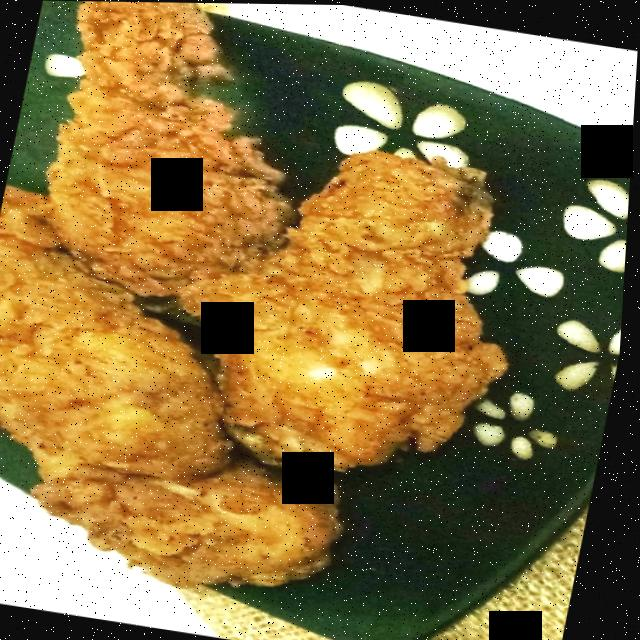Frango: (188, 131, 537, 490), (6, 0, 329, 304)
